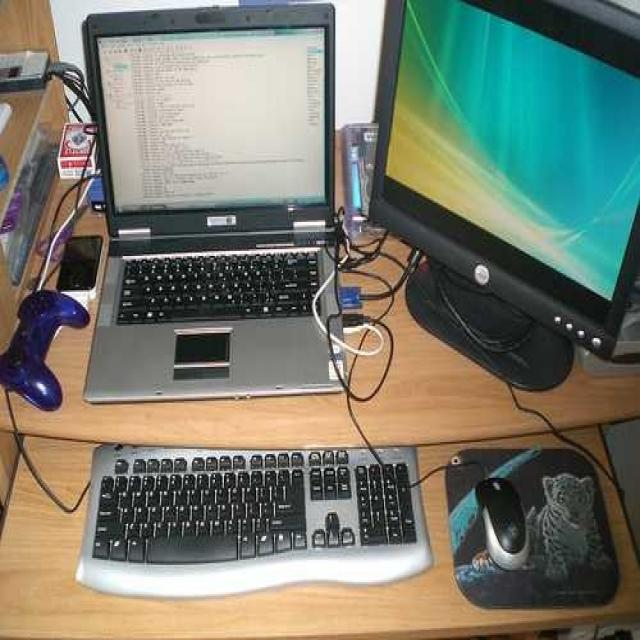laptop: (65, 21, 365, 420)
